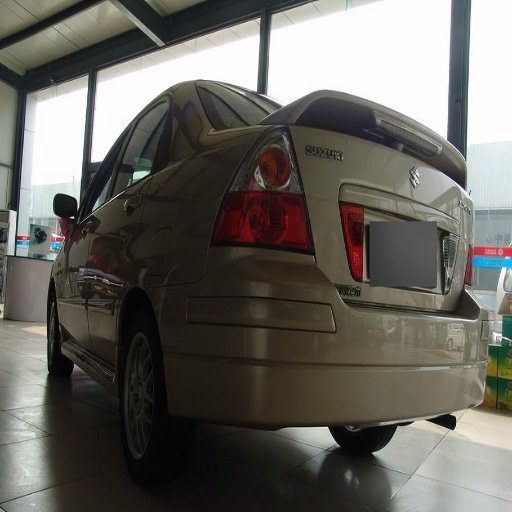back_bumper: (167, 249, 476, 424)
back_left_light: (214, 129, 311, 249)
tailgate: (292, 122, 344, 247), (420, 244, 458, 312)
trunk: (269, 132, 478, 367)
